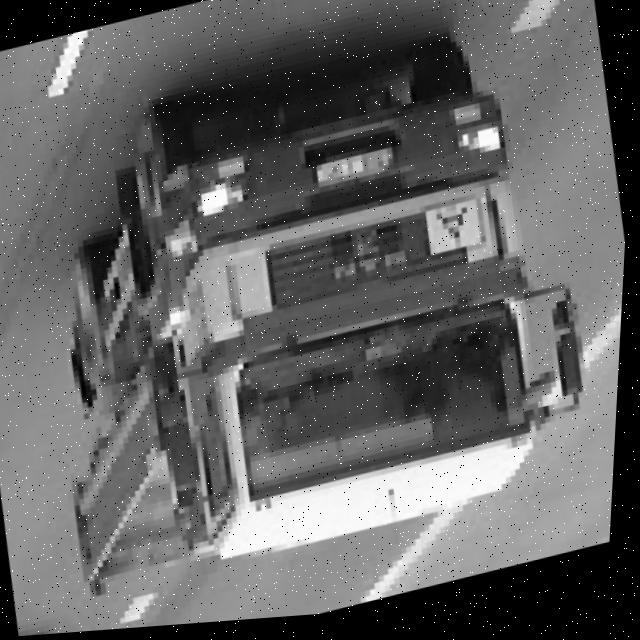truck: (84, 38, 621, 607)
